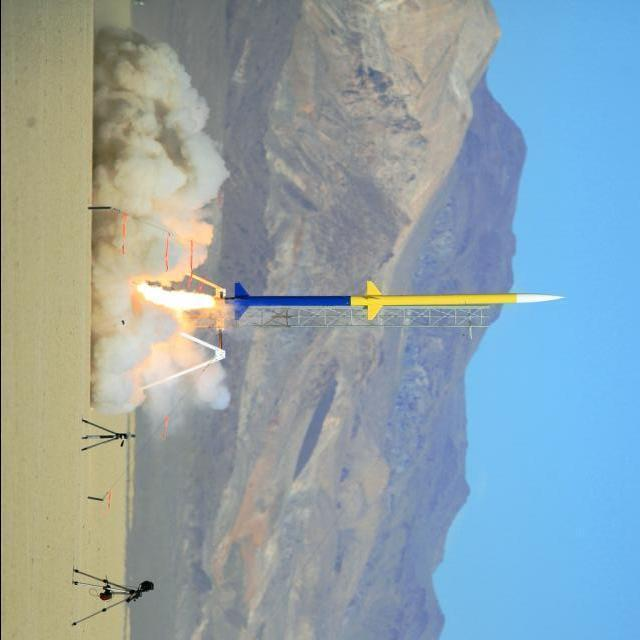missile: (217, 280, 566, 321)
